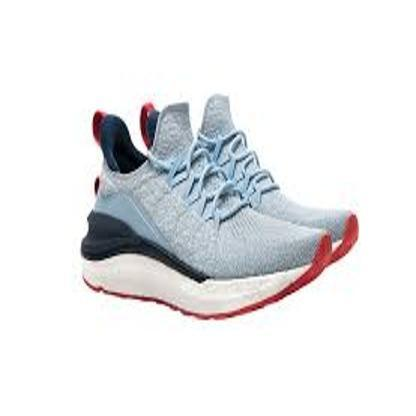not trash: (77, 94, 364, 321)
